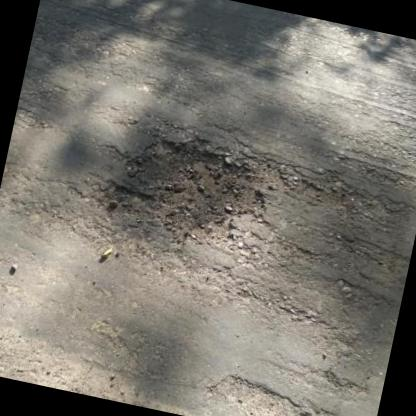pothole: (106, 124, 279, 255), (208, 367, 312, 416)
